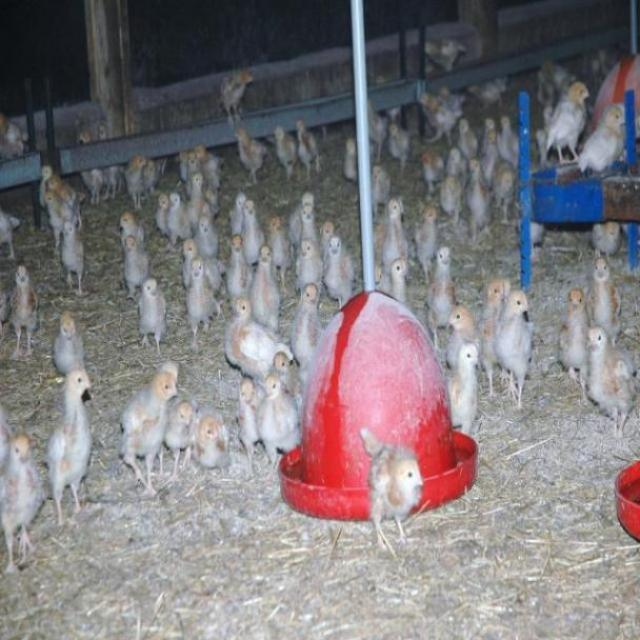Chicken: (78, 144, 355, 501), (414, 208, 536, 438), (421, 114, 523, 240), (479, 282, 542, 414), (362, 431, 425, 552), (44, 370, 90, 531), (581, 327, 639, 438), (3, 437, 48, 575), (546, 81, 591, 164), (558, 290, 591, 387), (586, 260, 621, 348), (9, 265, 39, 359), (54, 313, 84, 381), (221, 68, 253, 128), (61, 219, 86, 290), (295, 118, 324, 179), (232, 133, 266, 185), (275, 126, 298, 182), (388, 124, 409, 169)
